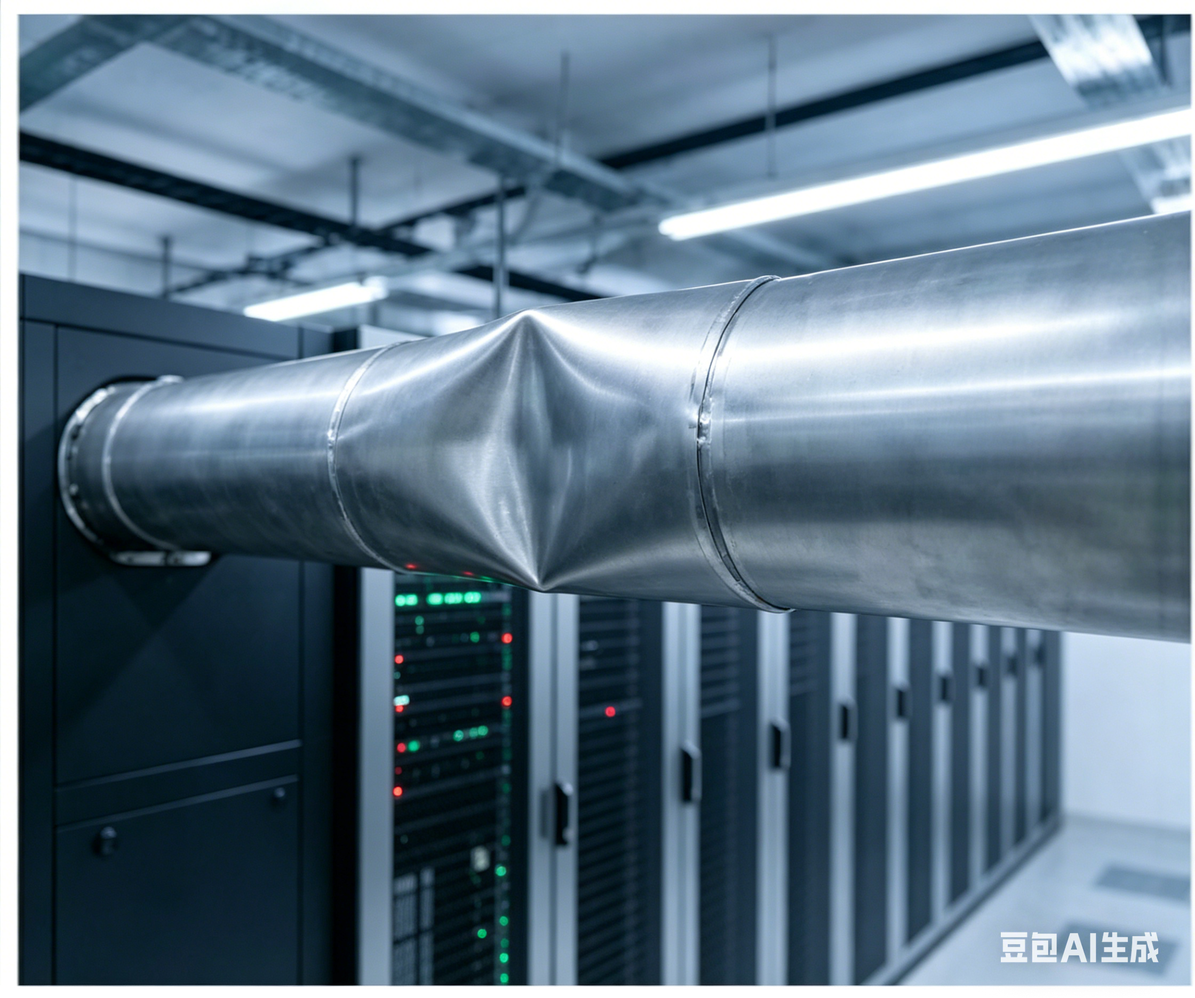Leakage: (403, 301, 632, 587)
